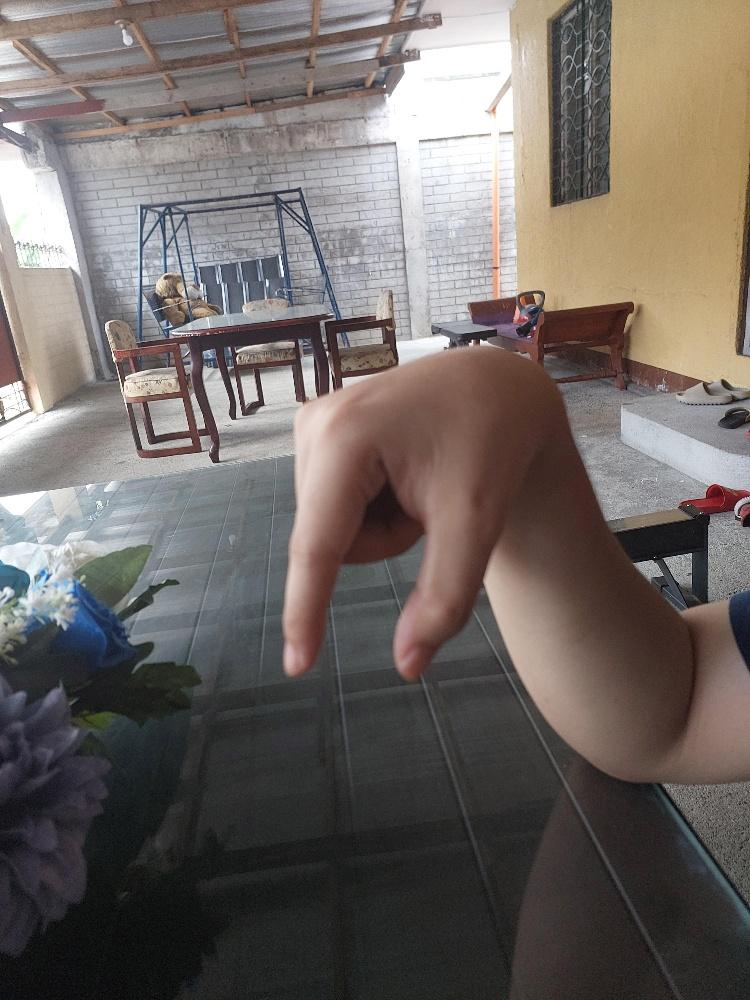q: (278, 340, 542, 684)
